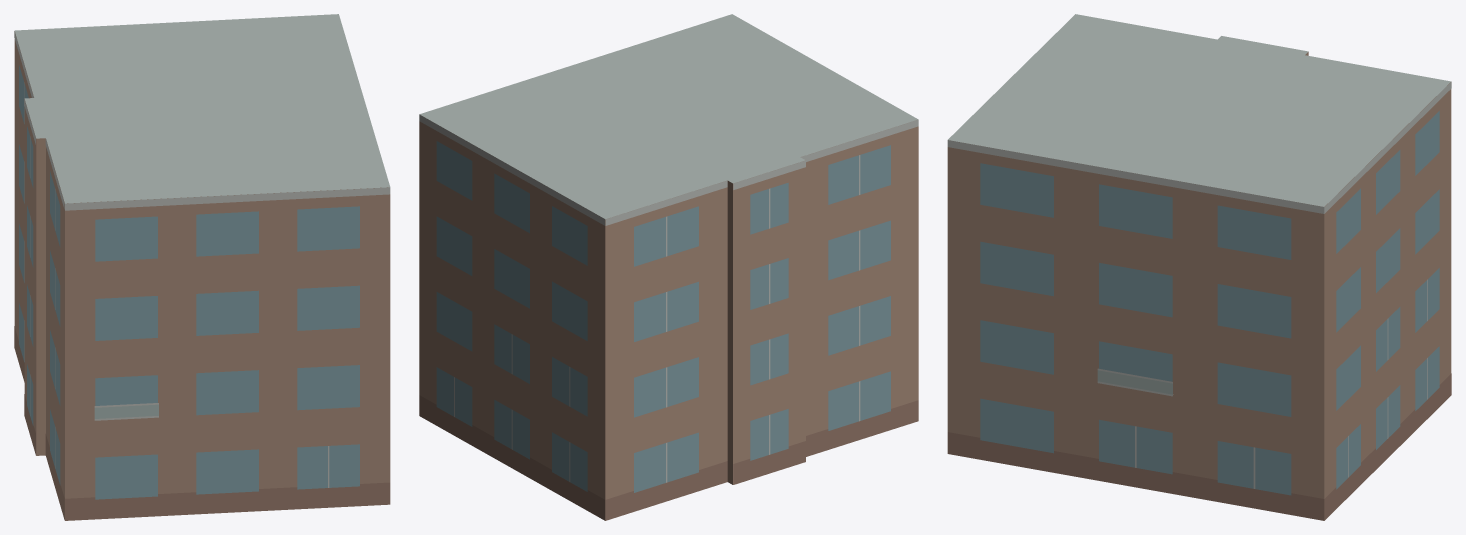
Rendered from survey-upis-33035123.glb.
The picture shows the model from 3 angles, left to right: view 1: azimuth 30°, elevation 25°; view 2: azimuth 150°, elevation 25°; view 3: azimuth 270°, elevation 25°; orthographic projection. The views are drawn at different scales.
Parts seen in each view (by area): view 1: survey-upis-33035123.tmp; view 2: survey-upis-33035123.tmp; view 3: survey-upis-33035123.tmp.
Part boxes in pixels (<box>): survey-upis-33035123.tmp: <box>14,14,390,520</box>; survey-upis-33035123.tmp: <box>419,14,918,520</box>; survey-upis-33035123.tmp: <box>947,14,1451,520</box>.
Size of the model in its own units: 14.25 by 10.8 by 15.72.
